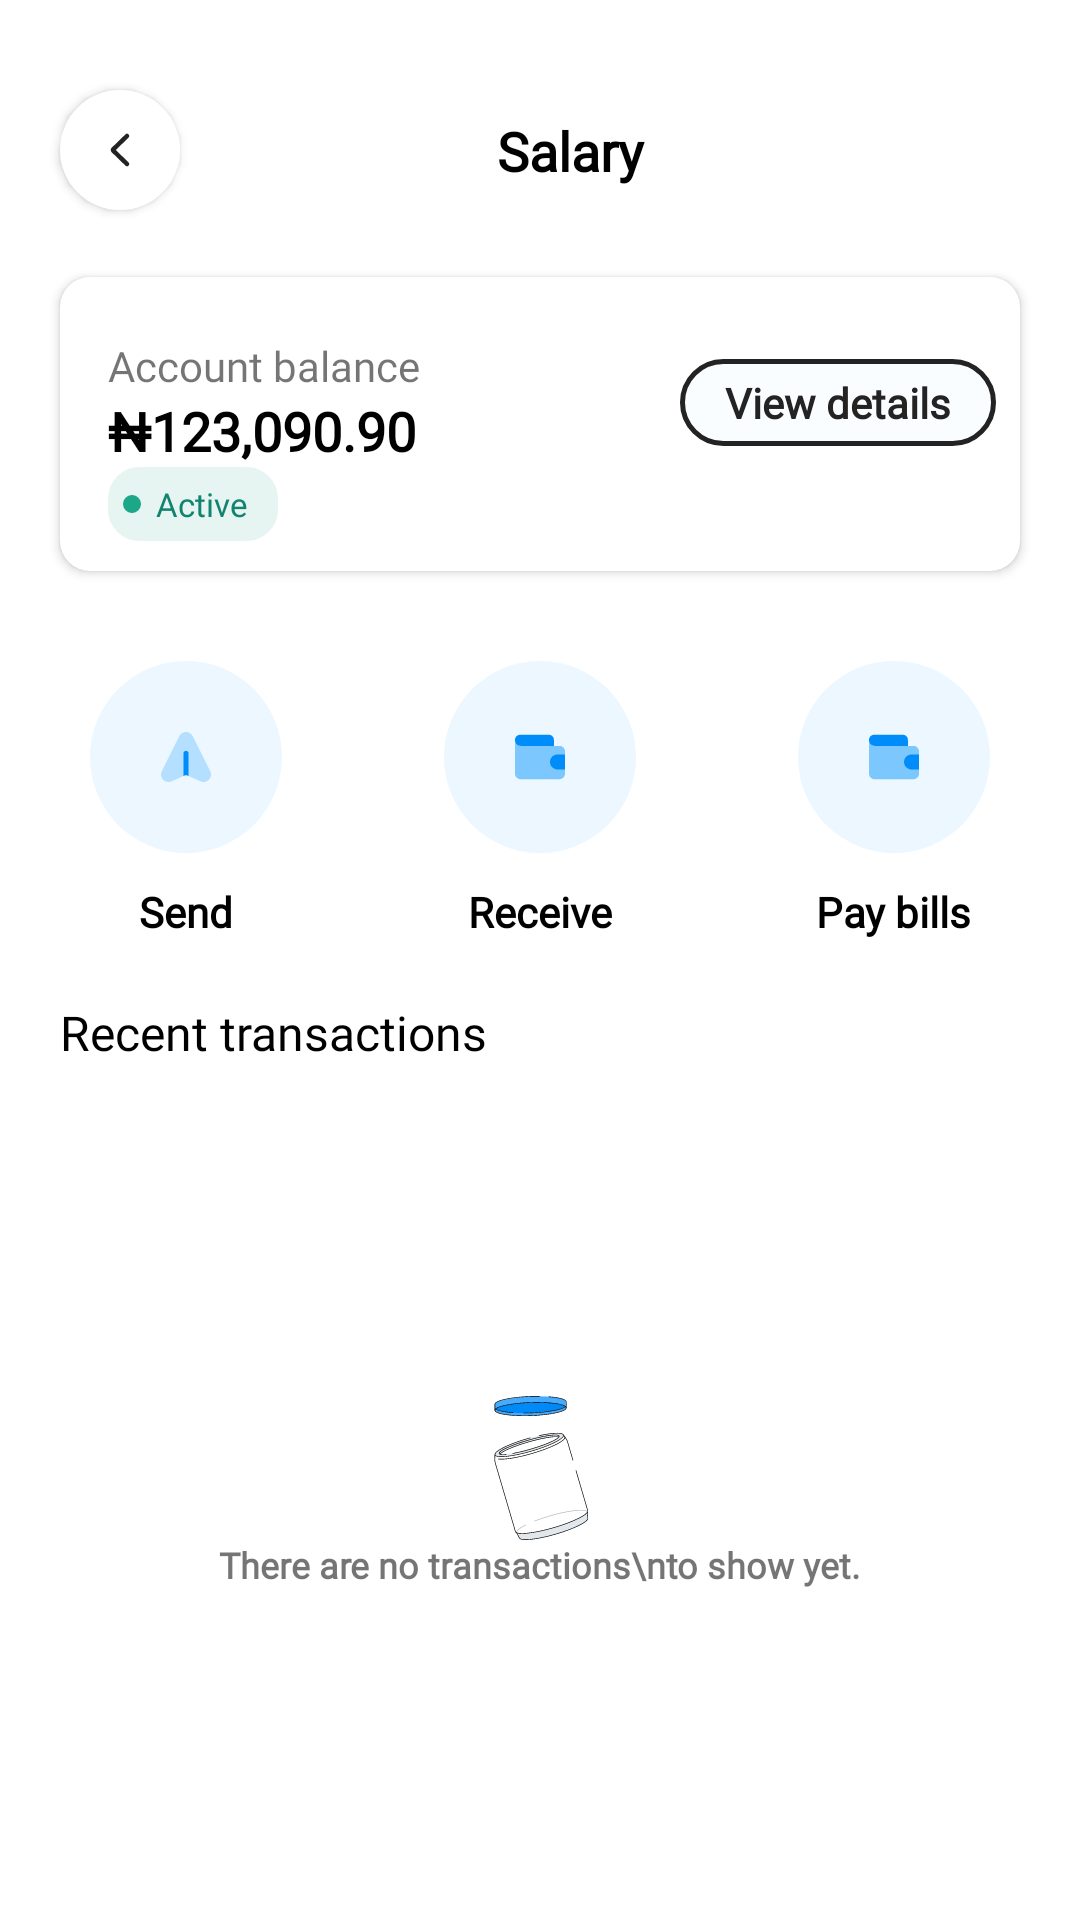

Point at icon controls on the screen. Image size 1080px x 1920px, points as (x=x, y=y).
empty: (x=541, y=1468)
nav: (x=95, y=150)
reciev money: (x=540, y=757), (x=894, y=757)
